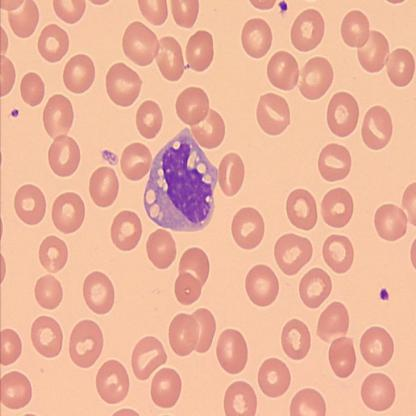Monocyte: (142, 124, 222, 236)
